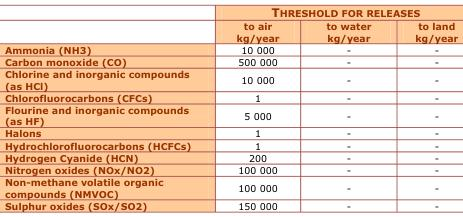table: (3, 4, 457, 210)
table column: (3, 4, 212, 210), (301, 4, 392, 210), (212, 4, 301, 210), (392, 4, 457, 210)
table column header: (3, 4, 457, 42)
table row: (3, 102, 457, 126), (3, 19, 457, 42), (3, 67, 457, 90), (3, 175, 457, 198), (3, 4, 457, 19), (3, 42, 457, 55), (3, 150, 457, 163), (3, 55, 457, 67), (3, 90, 457, 102), (3, 126, 457, 138), (3, 138, 457, 150), (3, 163, 457, 175), (3, 198, 457, 210)
table spanning cell: (212, 4, 457, 19)
